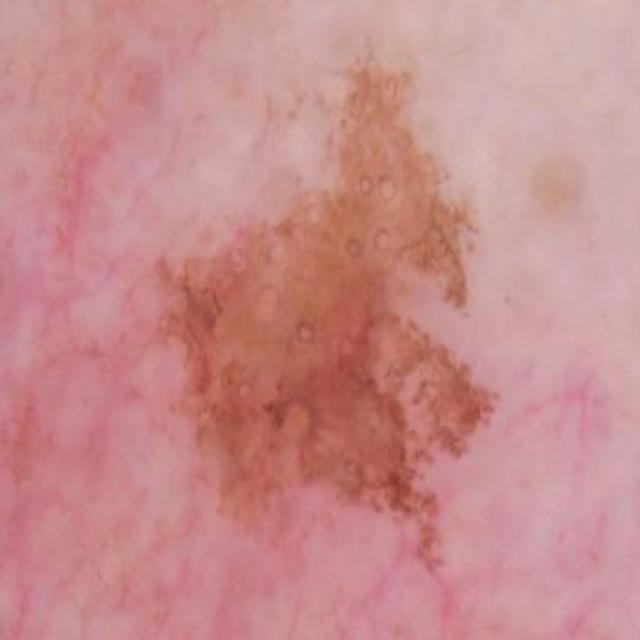BKL: (0, 0, 524, 614)
